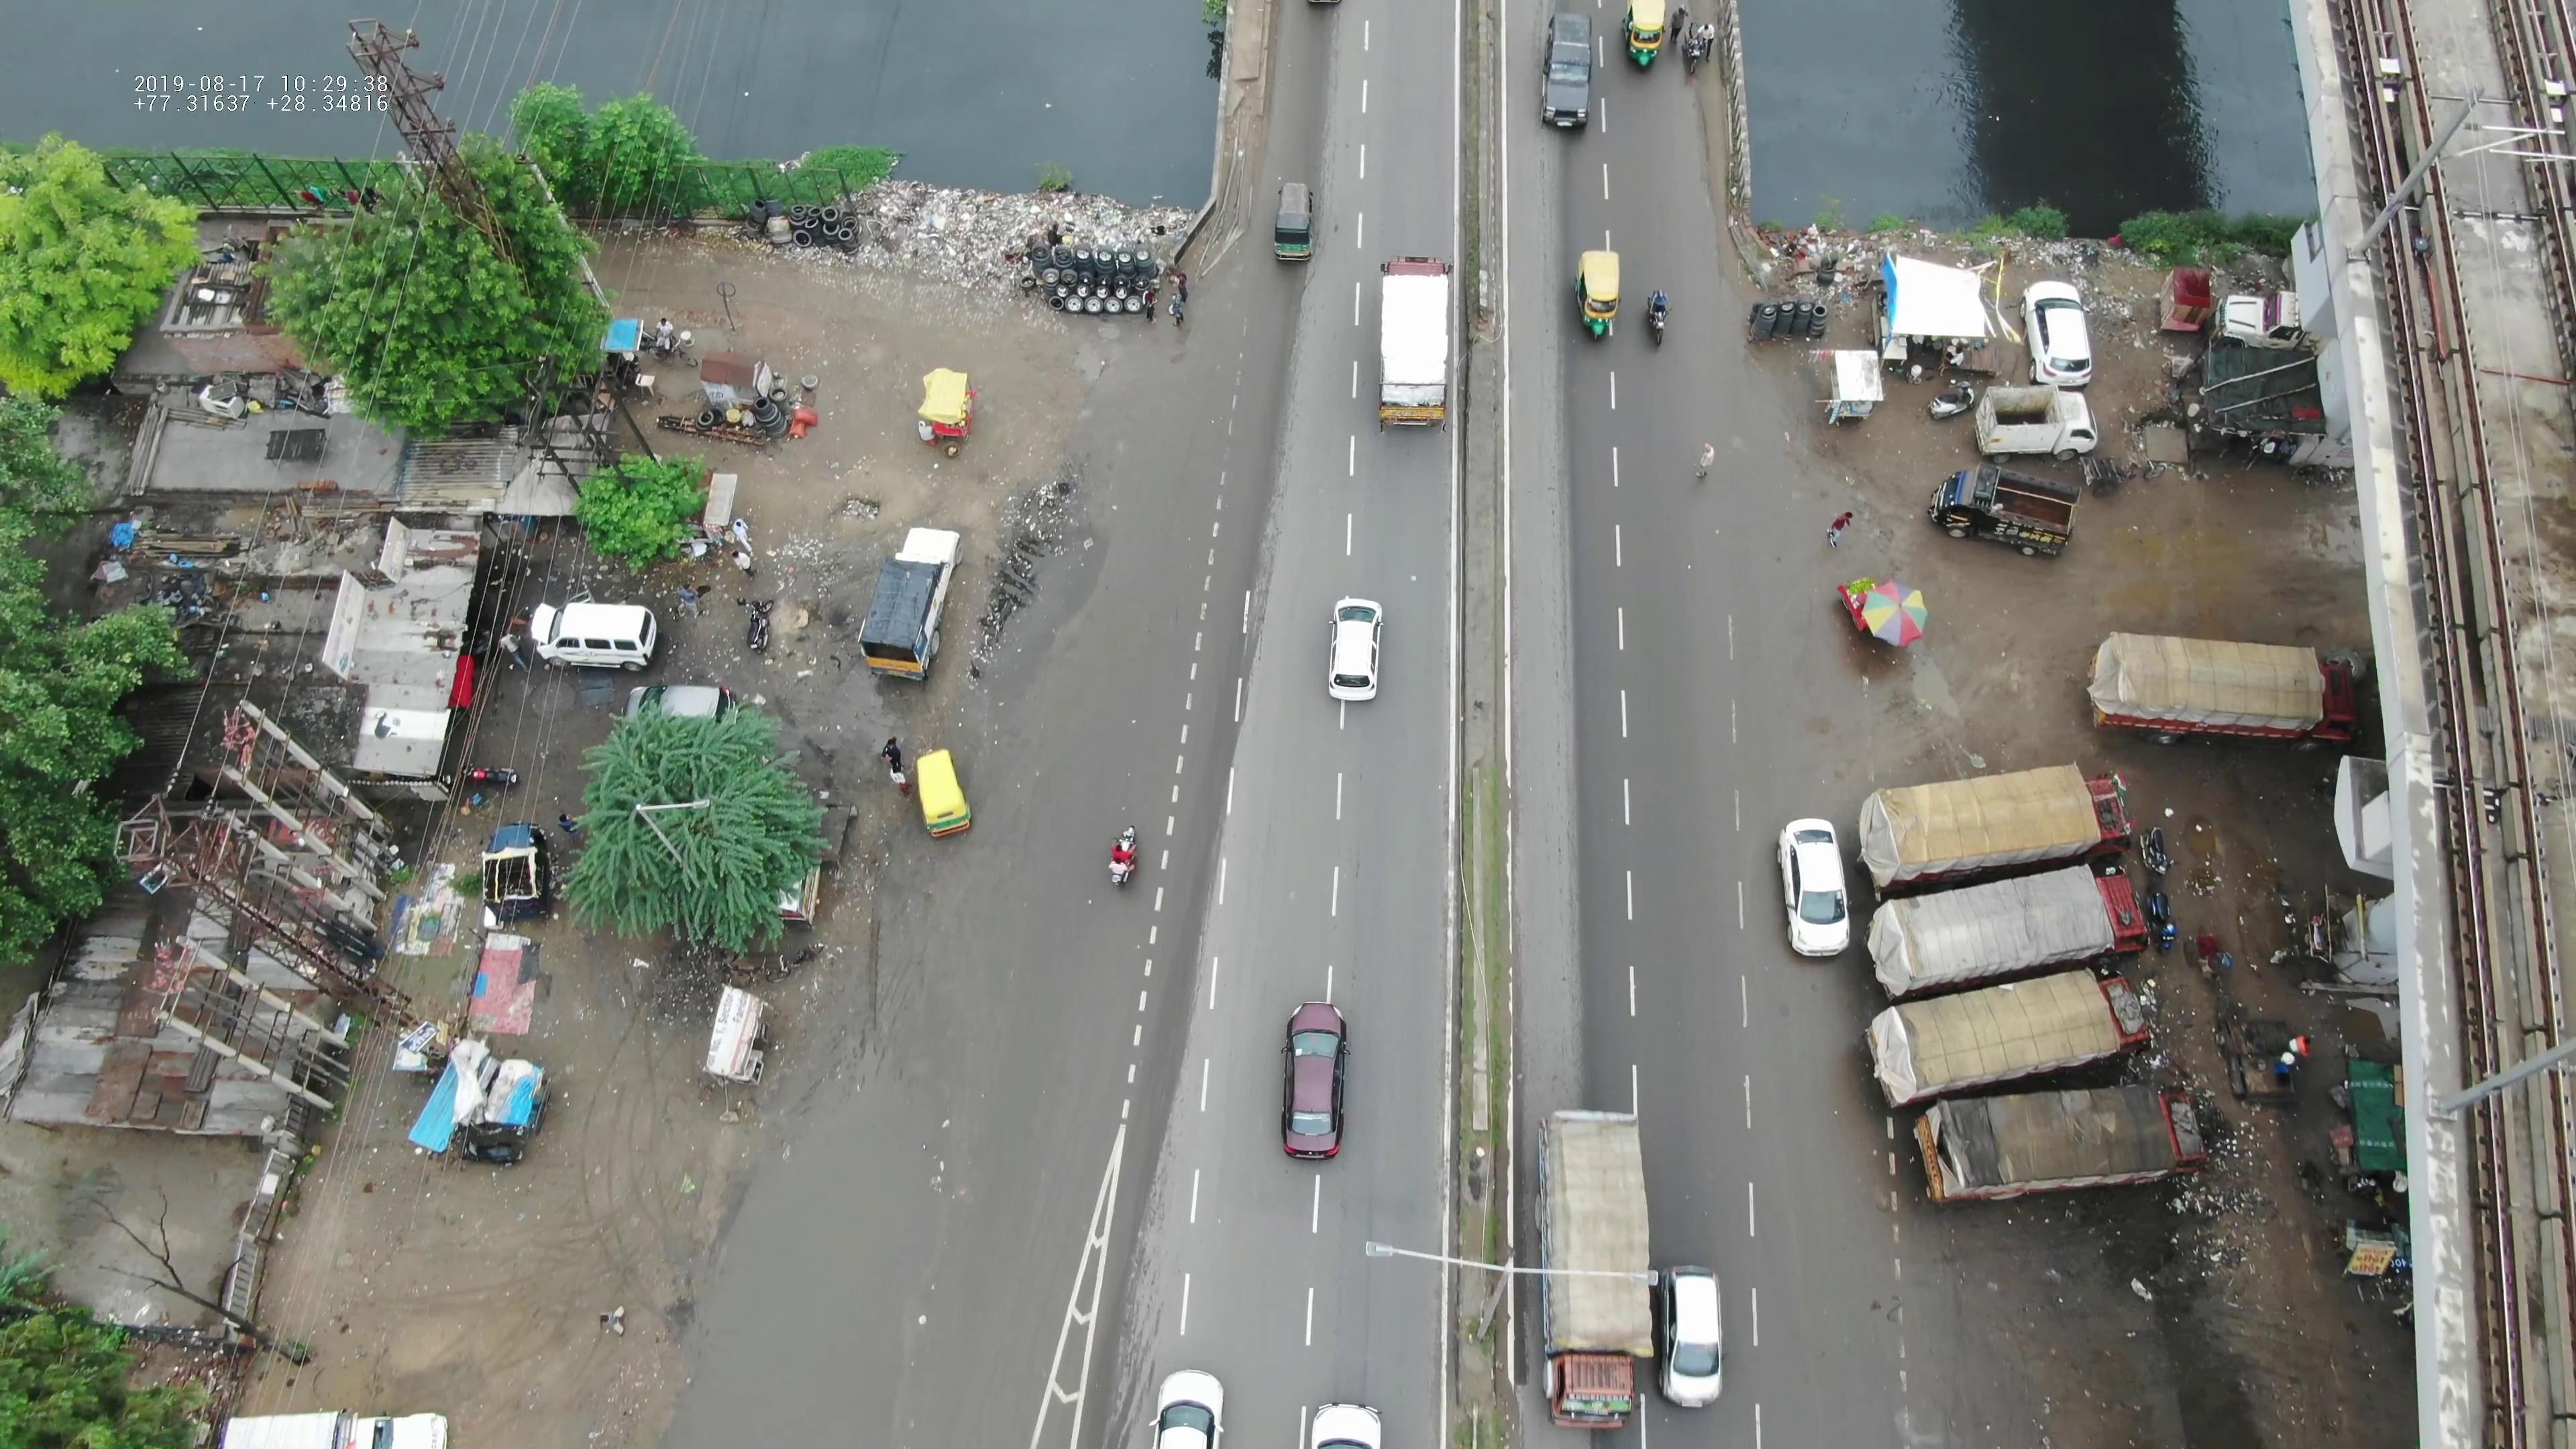Muddy_road: (2059, 1238, 2266, 1447), (975, 464, 1072, 653)
Road_side_garbage: (853, 198, 1203, 331)
